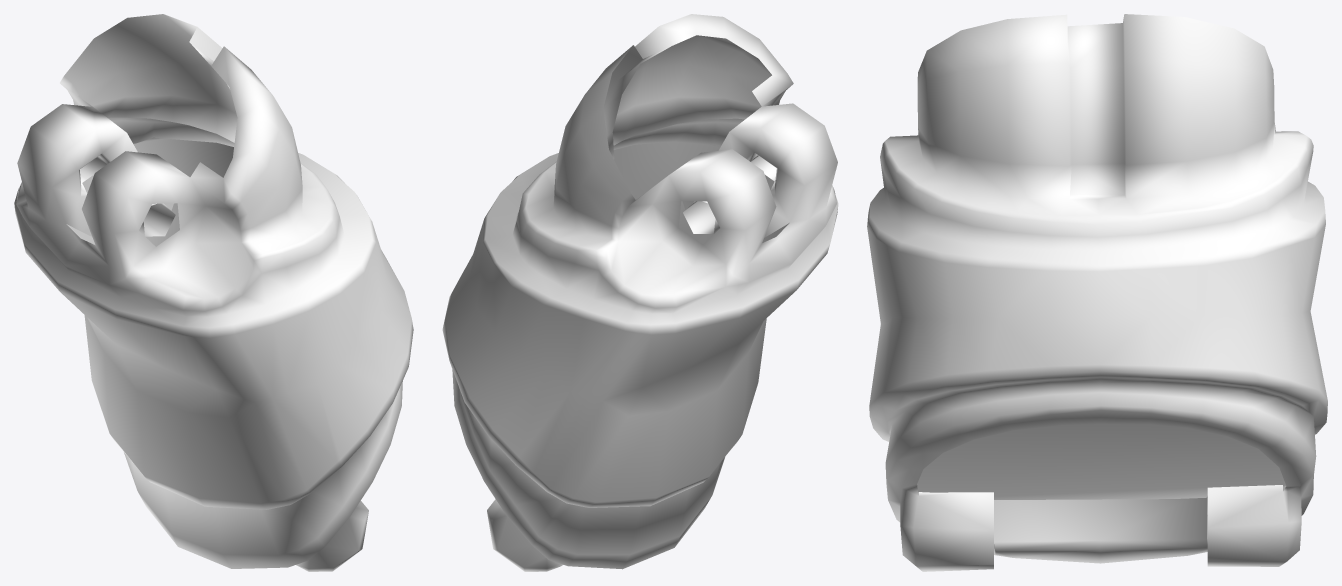
The model's file is LThumb1.dae.
3 renders of one model, left to right at view 1: azimuth 30°, elevation 25°; view 2: azimuth 150°, elevation 25°; view 3: azimuth 270°, elevation 25°, orthographic. The views are drawn at different scales.
Visible parts, largest first — view 1: LThumb1; view 2: LThumb1; view 3: LThumb1.
Part boxes in pixels (x1,y1,x2,y2): LThumb1: (14,14,413,571); LThumb1: (442,14,838,571); LThumb1: (867,14,1327,571).
Bounding box in the file's own units: 0.136 × 0.1591 × 0.2132.
Materials: 1 (1 with a texture image).
